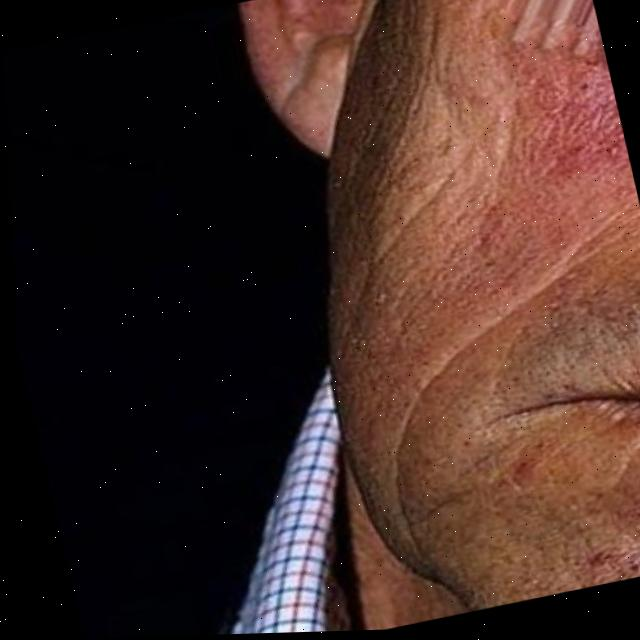Rosacea: (499, 33, 635, 201)
